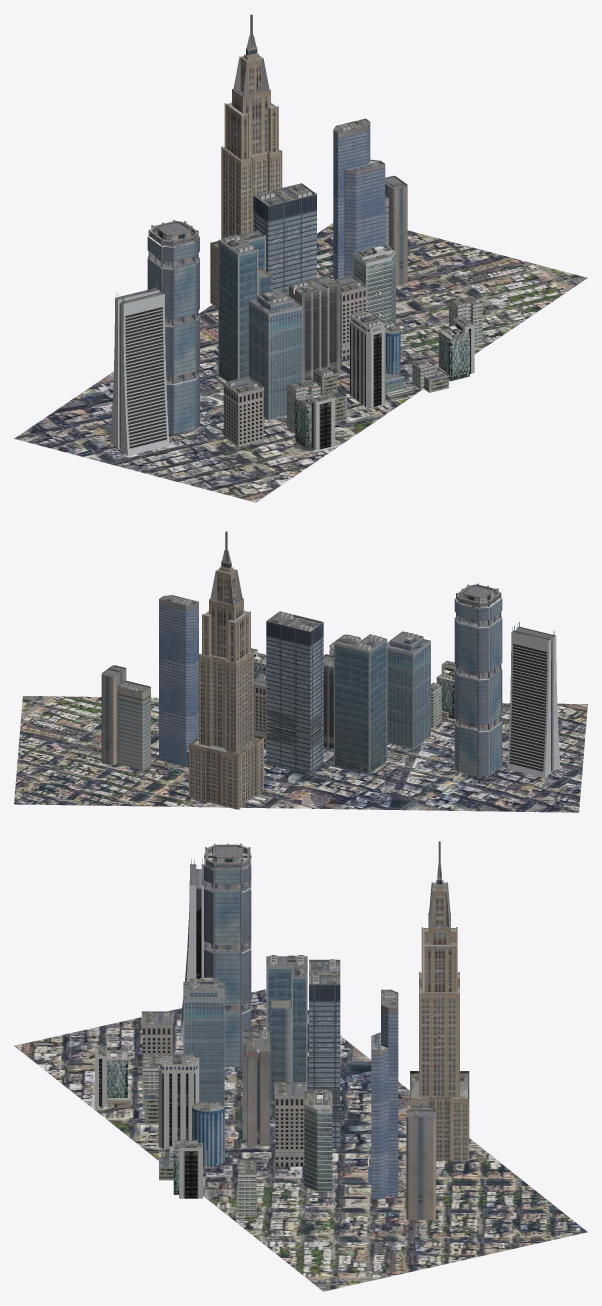
File: buildings.glb
3 renders of one model, top to bottom at view 1: azimuth 30°, elevation 25°; view 2: azimuth 150°, elevation 25°; view 3: azimuth 270°, elevation 25°, orthographic. The views are drawn at different scales.
Visible parts, largest first — view 1: ground_2, object 11, object 15, object 13, object 5, object 4, object 6, object 2, object 7, object 19, object 20, object 10 (+9 smaller); view 2: ground_2, object 11, object 13, object 2, object 4, object 15, object 5, object 6, object 8, object 7, object 17, object 1 (+1 smaller); view 3: ground_2, object 11, object 13, object 5, object 4, object 2, object 6, object 8, object 19, object 7, object 10, object 1 (+7 smaller).
Boxes of the visible parts, box(x1,y1,x2,y2) form: ground_2: box(14, 223, 587, 502); object 11: box(210, 14, 282, 307); object 15: box(110, 283, 169, 455); object 13: box(147, 220, 199, 434); object 5: box(333, 118, 385, 279); object 4: box(218, 230, 272, 381); object 6: box(249, 289, 302, 420); object 2: box(253, 183, 316, 295); object 7: box(289, 275, 340, 380); object 19: box(350, 310, 385, 407); object 20: box(223, 376, 264, 447); object 10: box(352, 244, 395, 323); ground_2: box(14, 696, 587, 812); object 11: box(189, 531, 263, 809); object 13: box(454, 583, 502, 776); object 2: box(266, 611, 323, 772); object 4: box(333, 634, 387, 773); object 15: box(507, 622, 560, 778); object 5: box(159, 595, 198, 767); object 6: box(387, 631, 430, 749); object 8: box(101, 665, 150, 770); object 7: box(323, 654, 333, 748); object 17: box(436, 660, 455, 719); object 1: box(254, 673, 266, 747); ground_2: box(14, 989, 587, 1291); object 11: box(410, 841, 469, 1161); object 13: box(204, 843, 251, 1065); object 5: box(368, 989, 398, 1199); object 4: box(266, 955, 307, 1116); object 2: box(309, 959, 340, 1148); object 6: box(183, 977, 224, 1105); object 8: box(406, 1105, 435, 1219); object 19: box(158, 1055, 199, 1148); object 7: box(242, 1030, 269, 1145); object 10: box(304, 1090, 332, 1191); object 1: box(274, 1082, 306, 1166).
Bounding box in the file's own units: 5.74 × 2.81 × 4.56.
2 materials, 2 textured.
